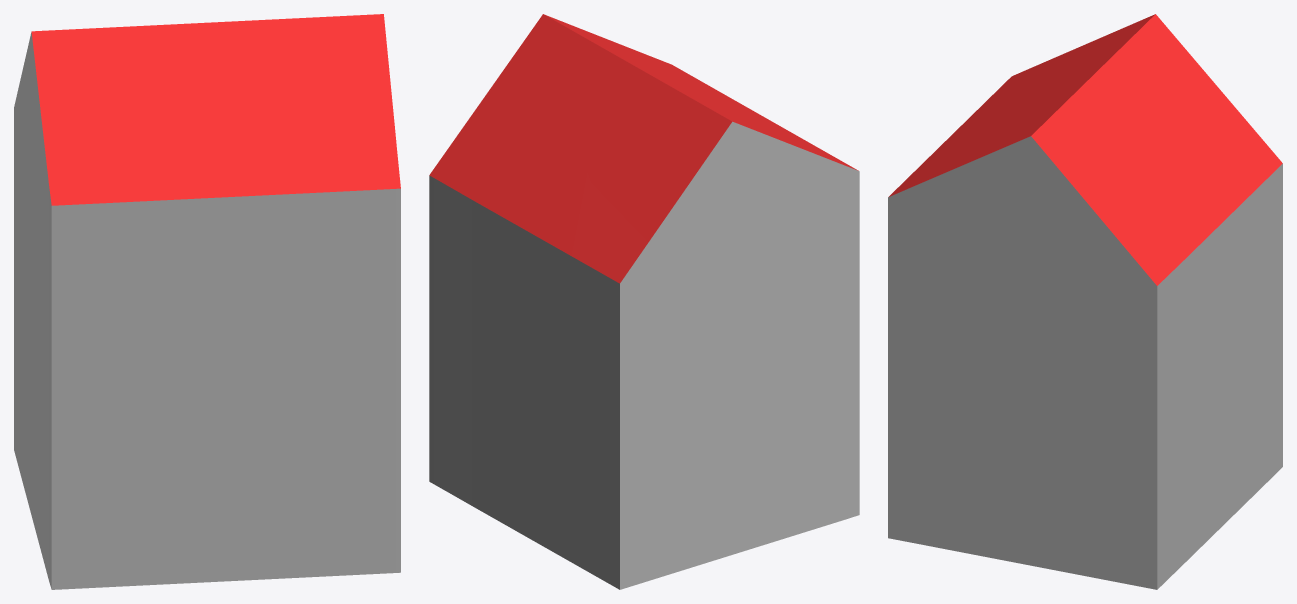
The model's file is DEBY_LOD2_4907190.dae.
3 views of the same model, side by side, from view 1: azimuth 30°, elevation 25°; view 2: azimuth 150°, elevation 25°; view 3: azimuth 270°, elevation 25° (orthographic). The views are drawn at different scales.
Size of the model in its own units: 18.33 by 17.7 by 21.25.
